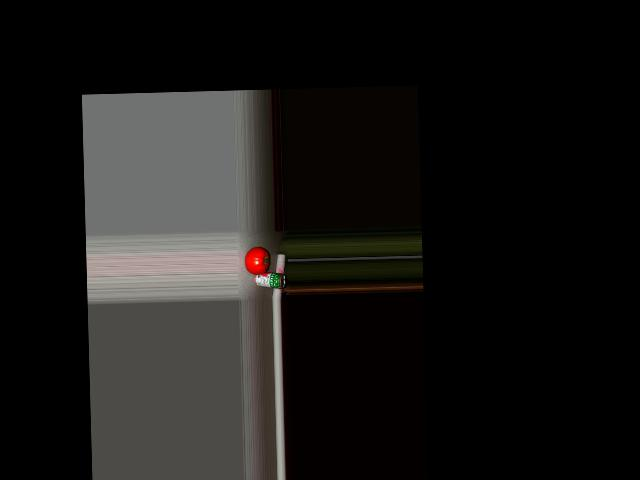tomato: (244, 246, 269, 274)
